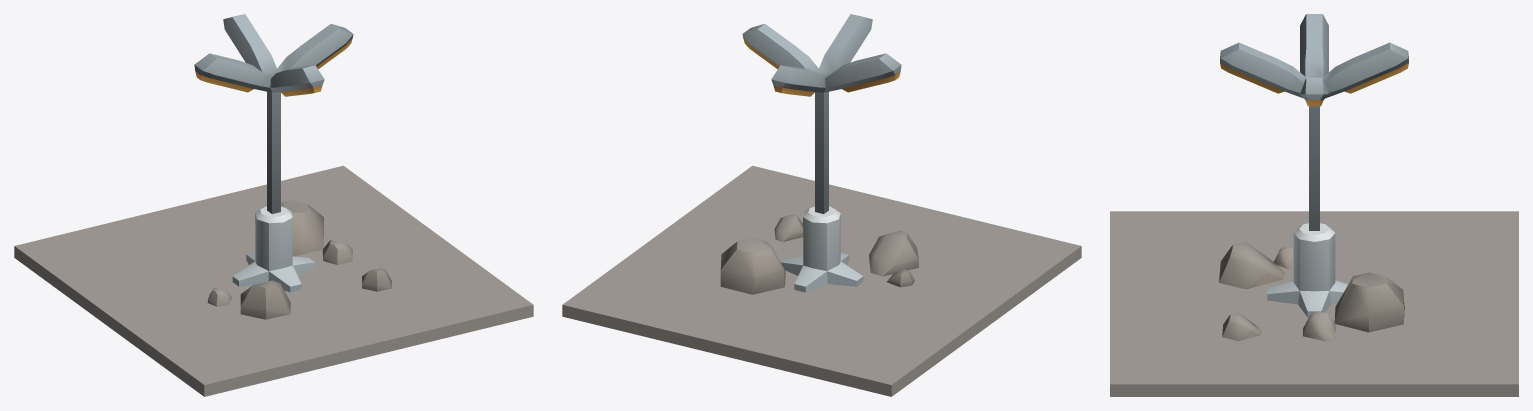
File: lightpost.glb
3 renders of one model, left to right at view 1: azimuth 30°, elevation 25°; view 2: azimuth 150°, elevation 25°; view 3: azimuth 270°, elevation 25°, orthographic. The views are drawn at different scales.
Visible parts, largest first — view 1: Lightpost; view 2: Lightpost; view 3: Lightpost.
Boxes of the visible parts, <box> form: Lightpost: <box>14,14,533,396</box>; Lightpost: <box>562,14,1081,396</box>; Lightpost: <box>1110,14,1518,396</box>.
Size of the model in its own units: 0.29 by 0.2071 by 0.29.
1 material, 1 textured.
